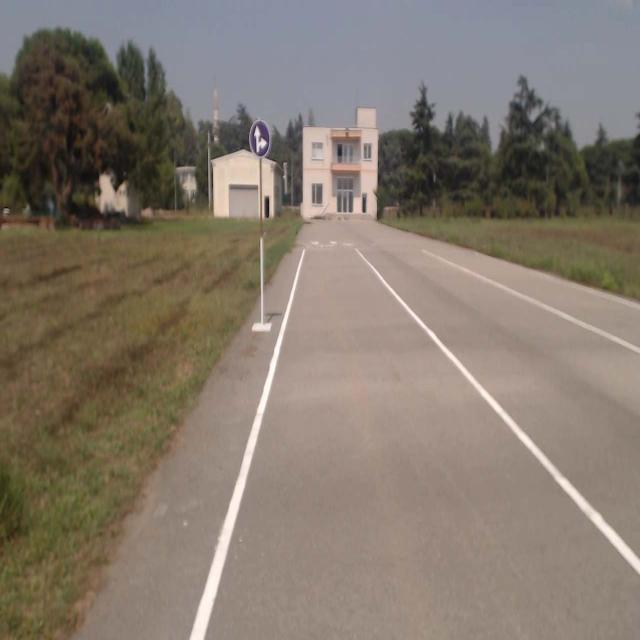ilerisag: (249, 120, 271, 157)
